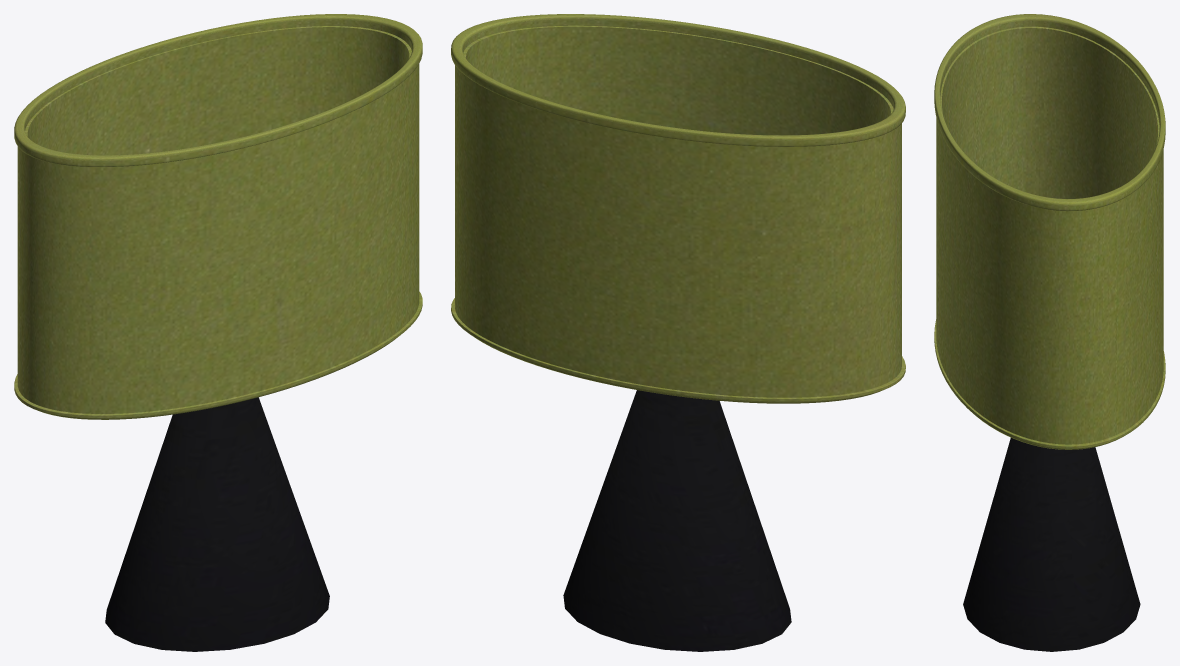
Rendered from lampara.obj.
The picture shows the model from 3 angles, left to right: view 1: azimuth 30°, elevation 25°; view 2: azimuth 150°, elevation 25°; view 3: azimuth 270°, elevation 25°; orthographic projection. The views are drawn at different scales.
Parts seen in each view (by area): view 1: light_vase6, pCone1; view 2: light_vase6, pCone1; view 3: light_vase6, pCone1.
Part boxes in pixels (left/top/right/bottom): light_vase6: left=14, top=14, right=422, bottom=419; pCone1: left=105, top=397, right=329, bottom=651; light_vase6: left=451, top=14, right=905, bottom=403; pCone1: left=563, top=390, right=791, bottom=651; light_vase6: left=934, top=14, right=1165, bottom=449; pCone1: left=963, top=437, right=1140, bottom=651.
Bounding box in the file's own units: 3.17 × 3.87 × 1.63.
Materials: 3 (2 with a texture image).
